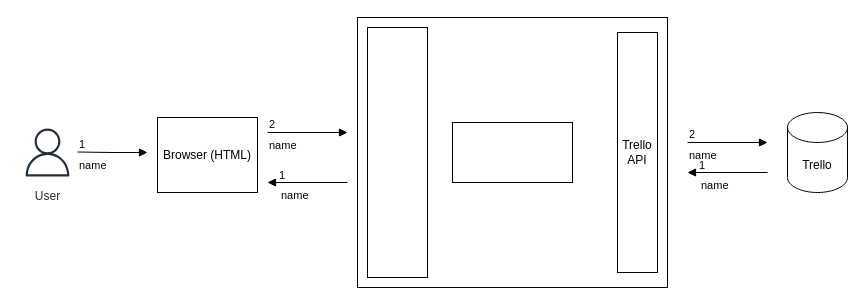
The diagram is 865 pixels wide and 305 high, and some of its shapes have lost their labels. The centre of each missing label's shape, as x and y in pixels:
App.py: pixel 512 152
HTML Templates: pixel 397 152
